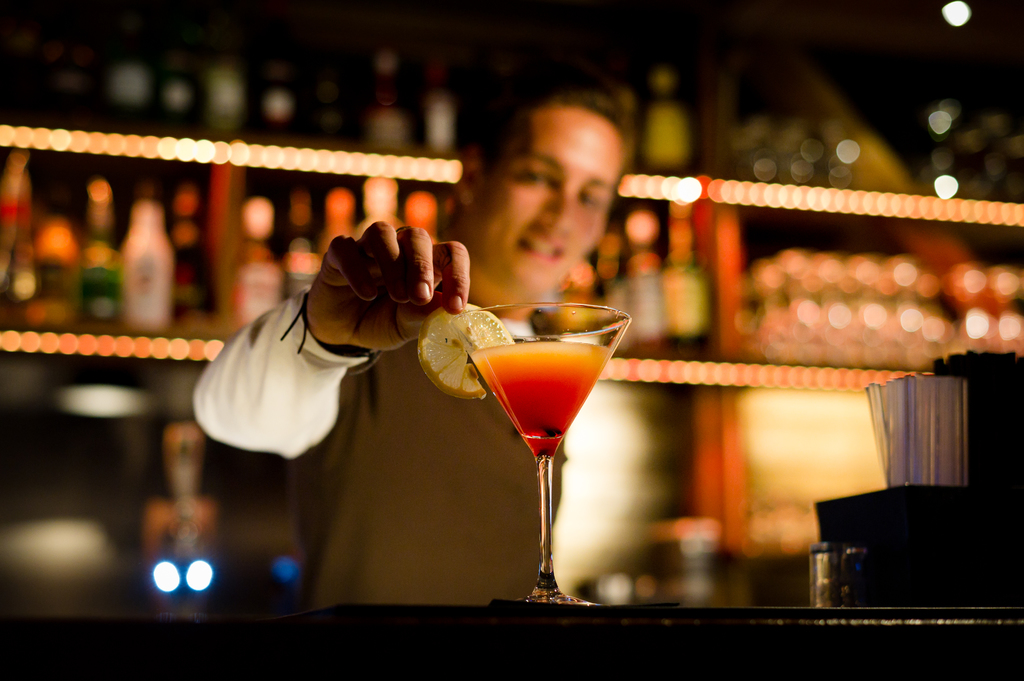Person: (191, 81, 636, 614)
